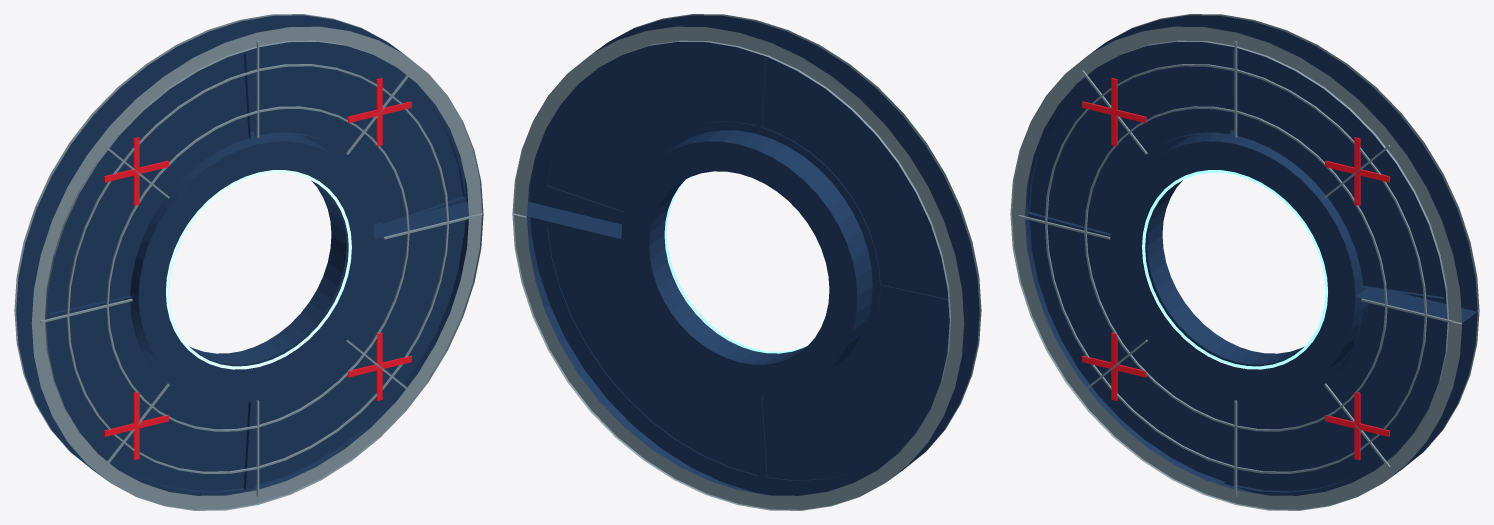
The model's file is foundry-panel-fun8-medium.glb.
3 views of the same model, side by side, from view 1: azimuth 30°, elevation 25°; view 2: azimuth 150°, elevation 25°; view 3: azimuth 330°, elevation 25° (orthographic).
Parts seen in each view (by area): view 1: RENDER_PANEL_SHELL, RENDER_PANEL_FRAME, RENDER_PANEL_HAZARD, RENDER_PANEL_SIGNAL; view 2: RENDER_PANEL_SHELL, RENDER_PANEL_FRAME, RENDER_PANEL_SIGNAL; view 3: RENDER_PANEL_SHELL, RENDER_PANEL_FRAME, RENDER_PANEL_HAZARD, RENDER_PANEL_SIGNAL.
Boxes of the visible parts, bbox=[...] form: RENDER_PANEL_SHELL: bbox=[16, 15, 468, 495]; RENDER_PANEL_FRAME: bbox=[14, 14, 483, 510]; RENDER_PANEL_HAZARD: bbox=[104, 78, 411, 460]; RENDER_PANEL_SIGNAL: bbox=[166, 170, 351, 369]; RENDER_PANEL_SHELL: bbox=[527, 15, 979, 495]; RENDER_PANEL_FRAME: bbox=[512, 14, 981, 510]; RENDER_PANEL_SIGNAL: bbox=[664, 179, 808, 353]; RENDER_PANEL_SHELL: bbox=[1025, 15, 1477, 495]; RENDER_PANEL_FRAME: bbox=[1010, 14, 1479, 510]; RENDER_PANEL_HAZARD: bbox=[1082, 78, 1389, 460]; RENDER_PANEL_SIGNAL: bbox=[1142, 170, 1327, 369].
Size of what is drawn, in the model's own units: 41 by 41 by 3.09.
